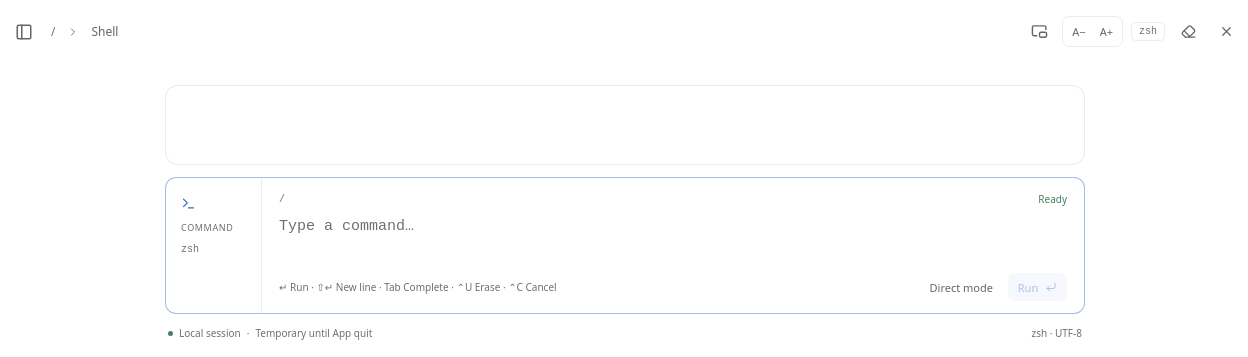
ignores stale native completion and cycles whole snapshots without submission
In the text box named "Terminal command": (673, 239) [279,215,1067,263], type "ab"
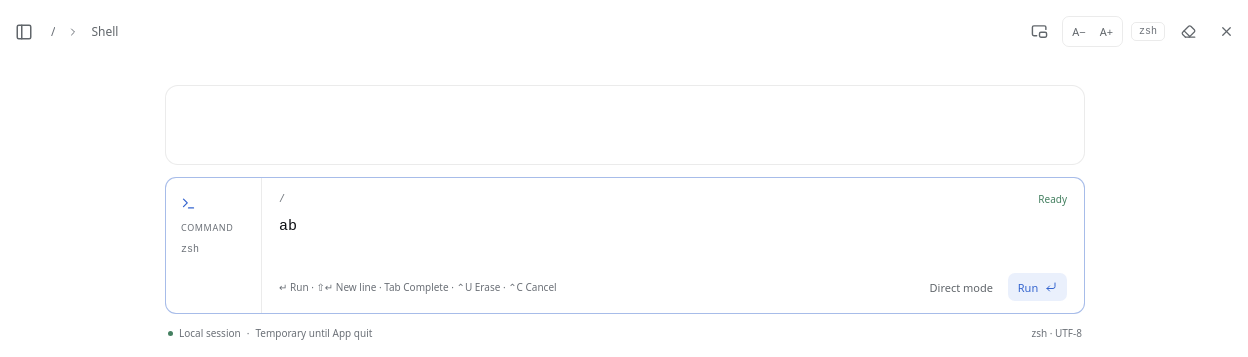
Press Tab in the text box named "Terminal command", box [279,215,1067,263]
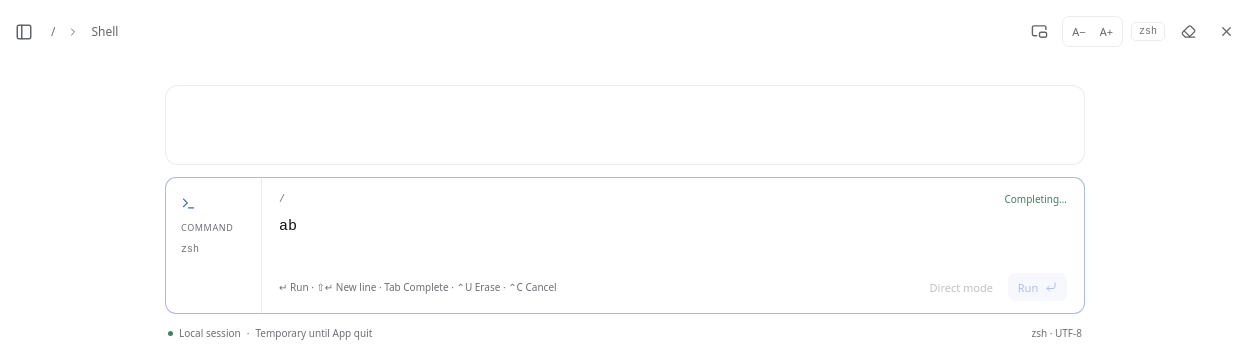
Replace the text in the text box named "Terminal command" with "changed": (673, 239) [279,215,1067,263]
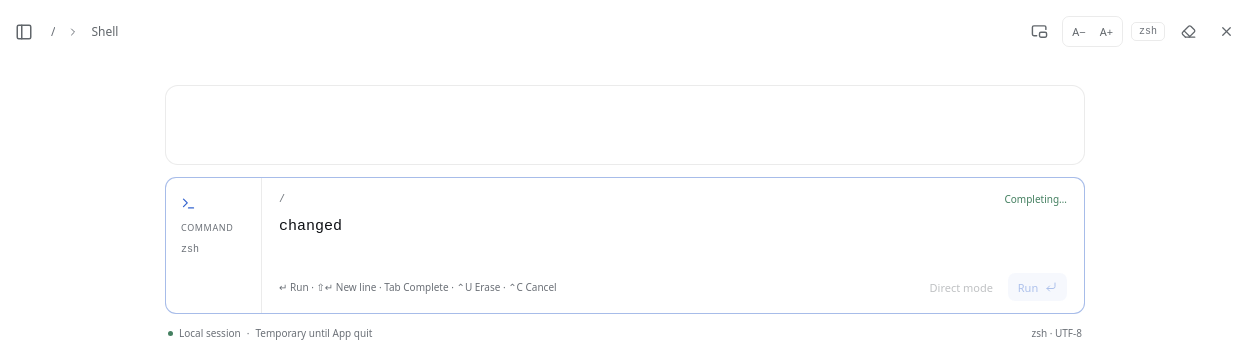
Press Tab in the text box named "Terminal command", box [279,215,1067,263]
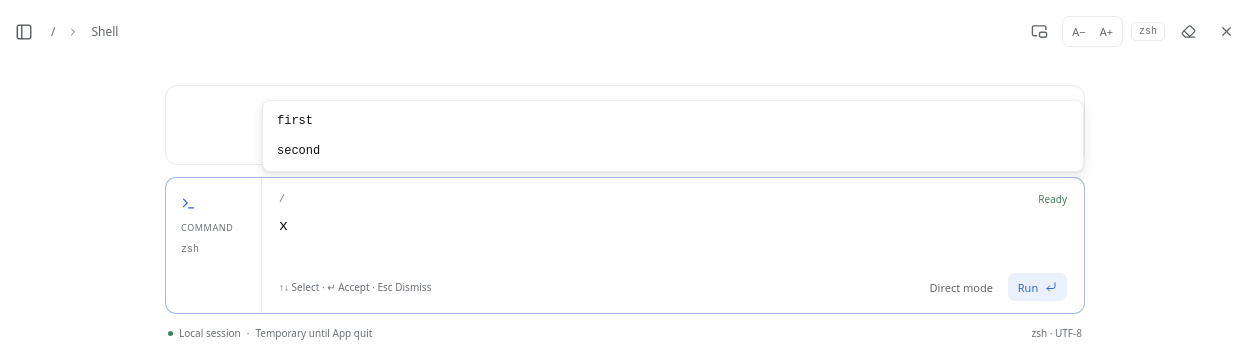
Now the text box named "Terminal command" holds "x"
Press Tab in the text box named "Terminal command", box [279,215,1067,263]
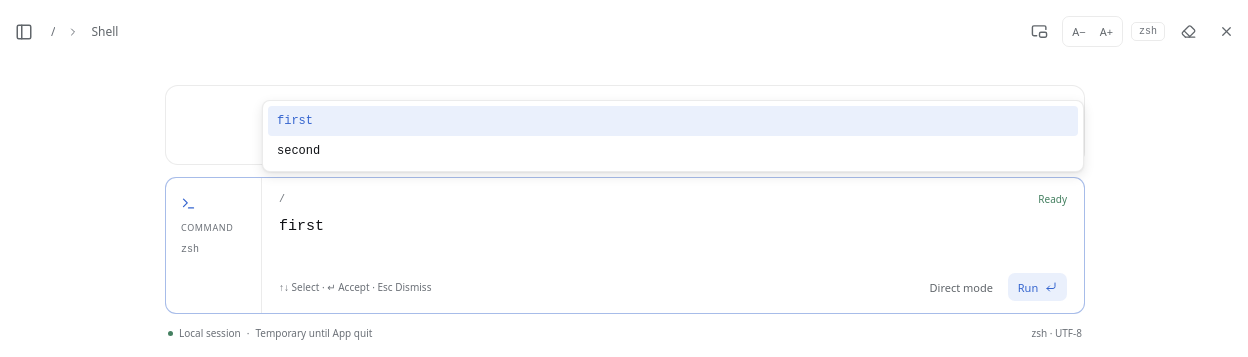
Now the text box named "Terminal command" holds "first"
Press Tab in the text box named "Terminal command", box [279,215,1067,263]
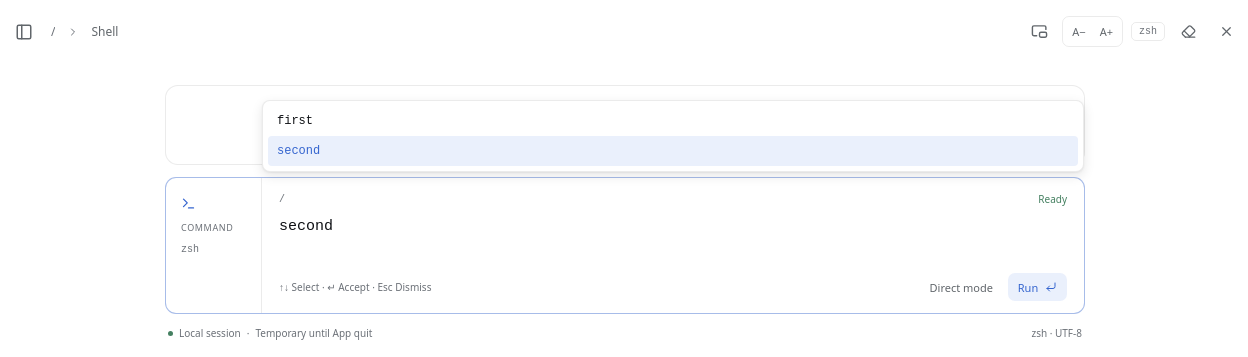
Now the text box named "Terminal command" holds "second", box [279,215,1067,263]
